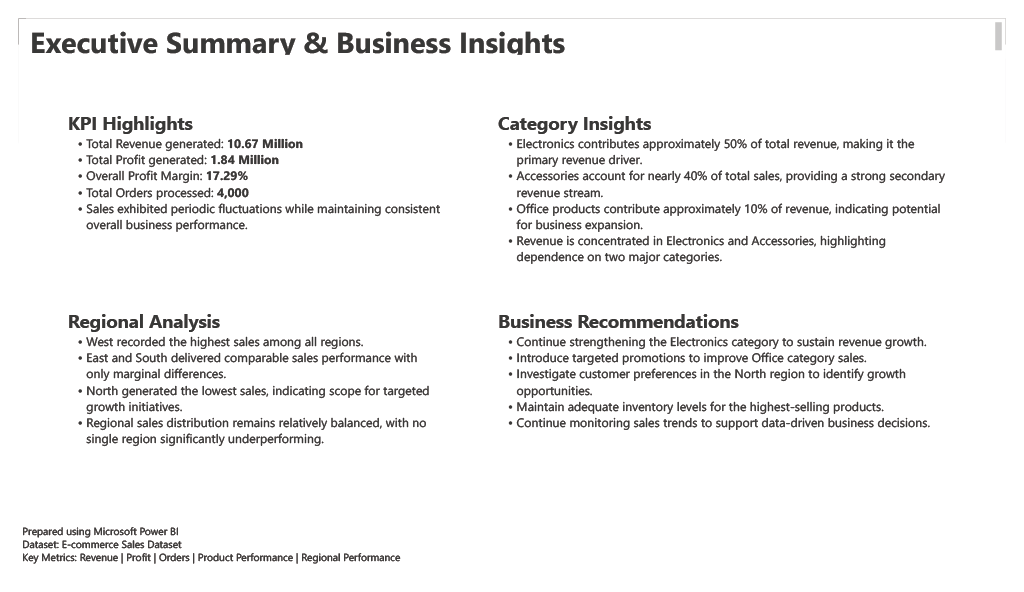

The page's visual inventory and layout, read from the dashboard file:
{"tool":"powerbi","page":{"name":"Executive Summary & Business Insights","canvas":[1280,720],"ordinal":1},"visuals":[{"type":"textbox","box":[9.6,0,1270.7,52.1],"z":0},{"type":"textbox","box":[59,114.3,492.9,215.7],"z":1000},{"type":"textbox","box":[617.1,114.3,604.3,215.7],"z":2000},{"type":"textbox","box":[58.6,371.4,492.9,251.4],"z":3000},{"type":"textbox","box":[617.1,371.4,604.3,251.4],"z":4000},{"type":"textbox","box":[0,651.4,1125.7,68.6],"z":5000}]}

Visuals, with their boxes in screenshot pixels (x1, y1, x2, y2), scaled from the page's 1280x720 canvas onto the 1024x592 screenshot:
textbox: detection(8, 0, 1023, 43)
textbox: detection(47, 94, 442, 271)
textbox: detection(494, 94, 977, 271)
textbox: detection(47, 305, 441, 512)
textbox: detection(494, 305, 977, 512)
textbox: detection(0, 536, 901, 591)
